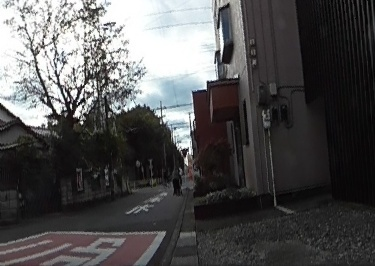person: (172, 164, 182, 192)
